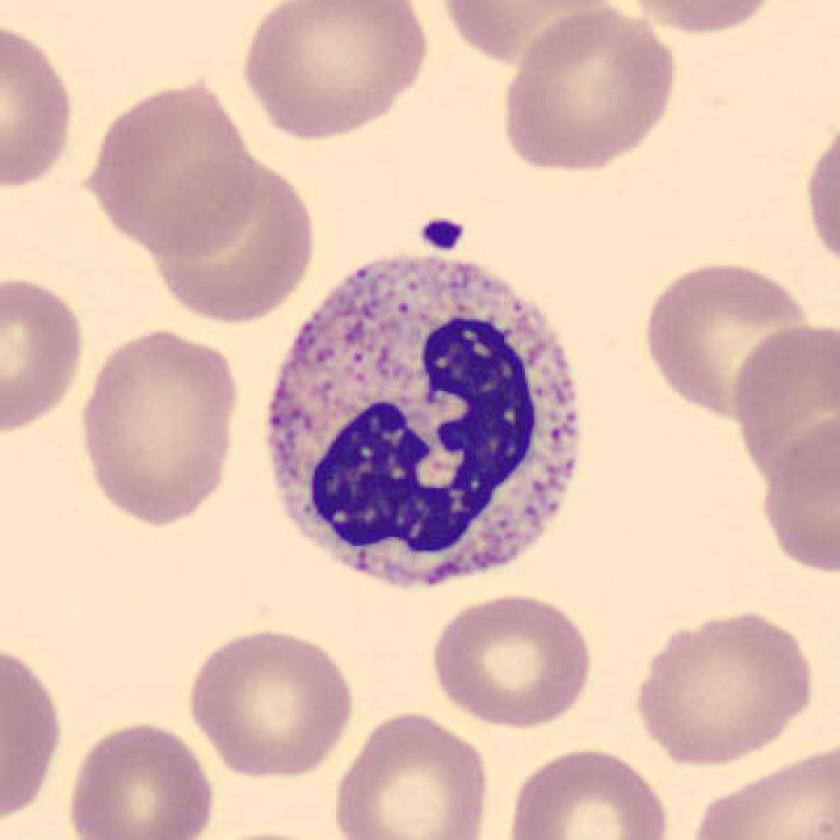neutrophil: (268, 260, 575, 591)
